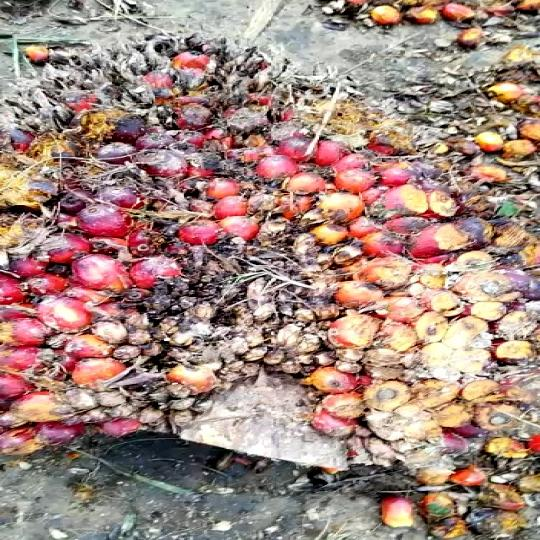masak: (0, 22, 528, 490)
